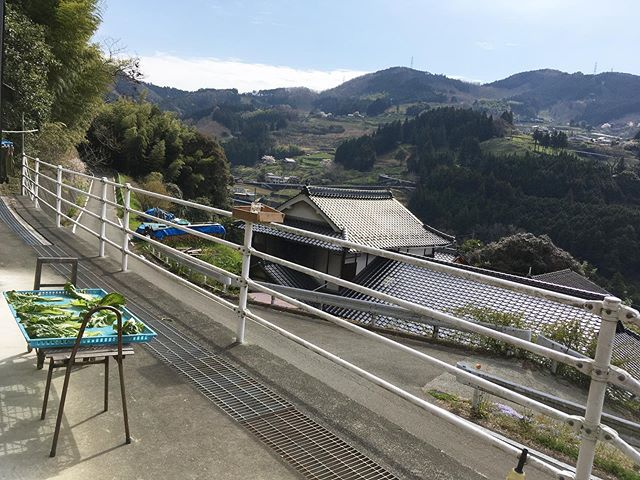building: (335, 244, 616, 381), (256, 184, 437, 311)
sky: (140, 1, 640, 73)
tree: (83, 100, 191, 194)
vegetation: (403, 106, 640, 238)
